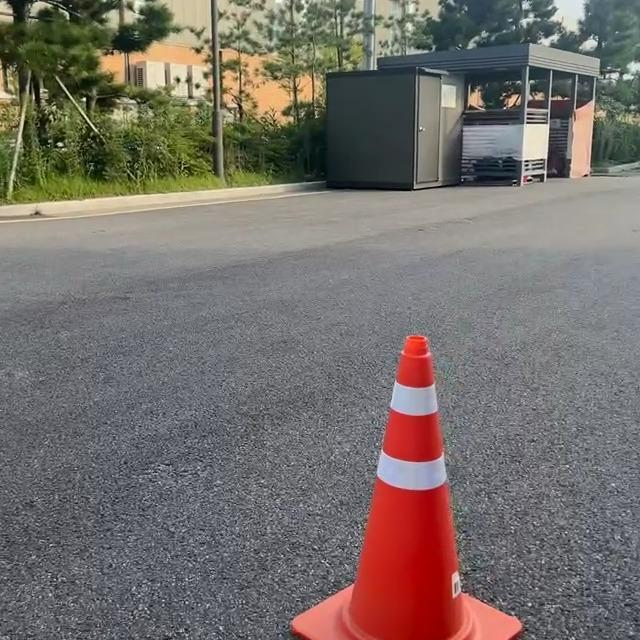fallen_object: (296, 311, 530, 640)
